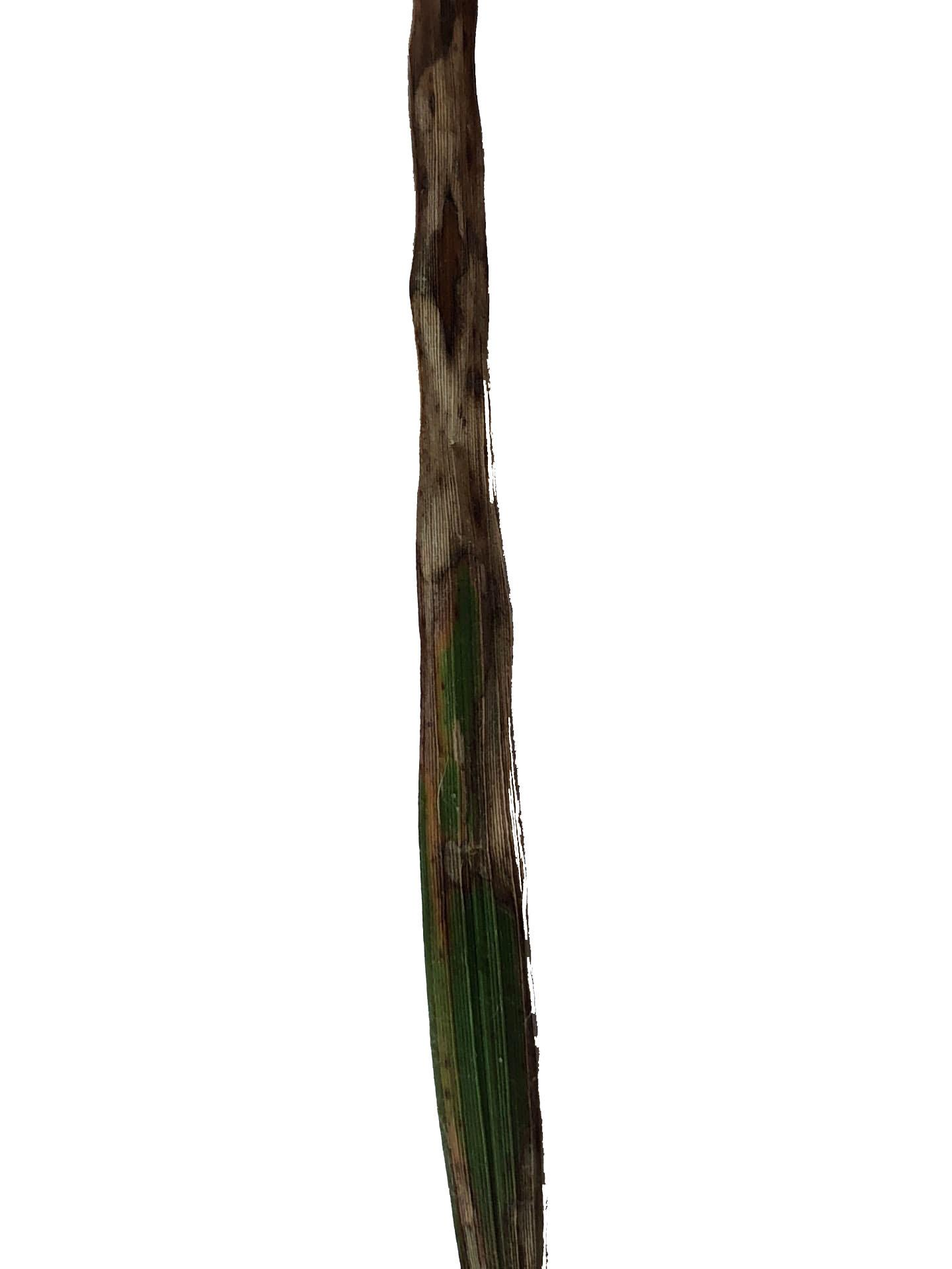Blight: (413, 3, 506, 872)
